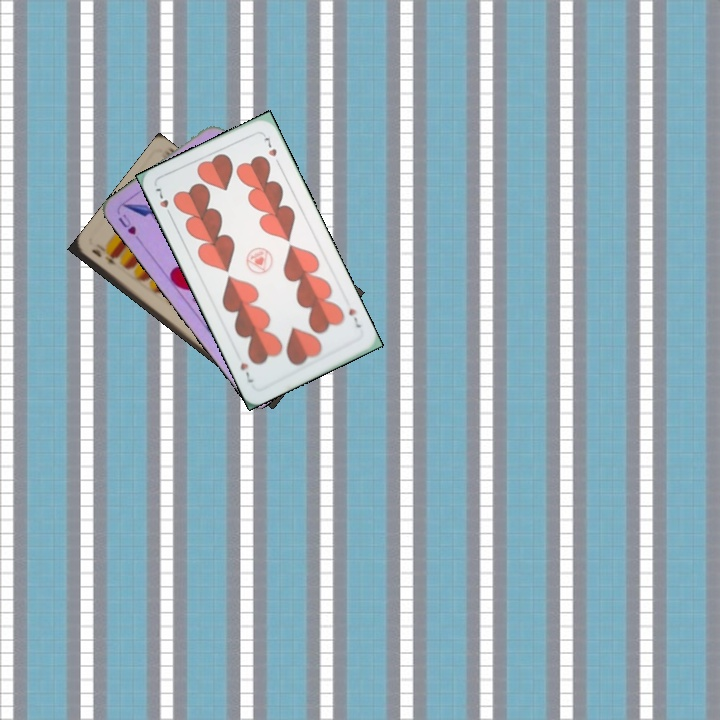E10: (87, 245, 119, 268)
H7: (151, 184, 175, 220), (345, 304, 364, 330)
HU: (114, 209, 143, 244)
